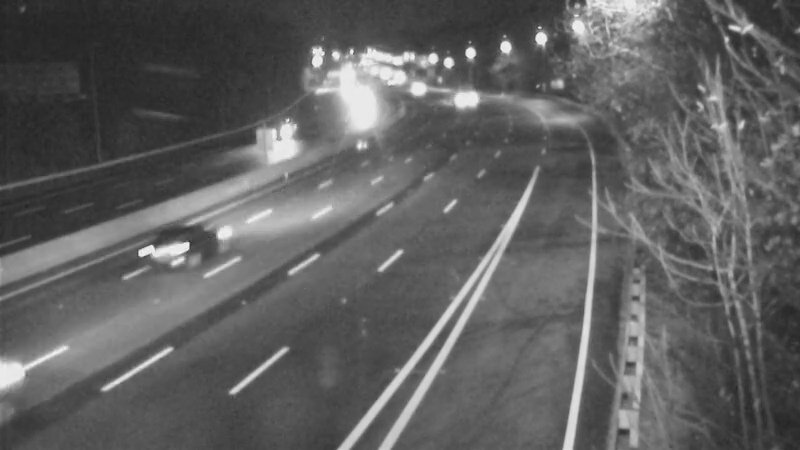vehicle: (128, 205, 208, 285), (391, 61, 441, 111), (435, 70, 485, 120), (260, 109, 310, 159), (332, 90, 382, 140)
